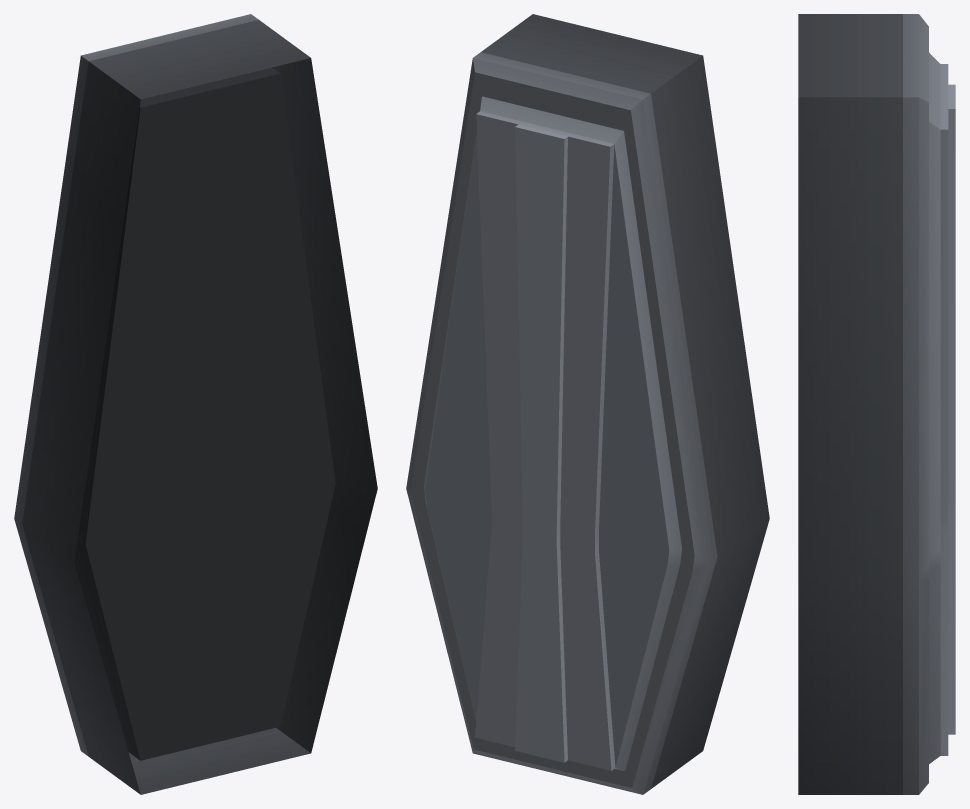
The model's file is Tomb 01.FBX.
3 views of the same model, side by side, from view 1: azimuth 30°, elevation 25°; view 2: azimuth 150°, elevation 25°; view 3: azimuth 270°, elevation 25° (orthographic).
Visible parts, largest first — view 1: Tomb 01, Tomb Cover 01; view 2: Tomb Cover 01, Tomb 01; view 3: Tomb 01, Tomb Cover 01.
Part boxes in pixels (x1,y1,x2,y2): Tomb 01: [22, 20, 377, 794]; Tomb Cover 01: [14, 14, 258, 756]; Tomb Cover 01: [406, 52, 717, 794]; Tomb 01: [481, 14, 769, 788]; Tomb 01: [798, 14, 902, 794]; Tomb Cover 01: [903, 14, 955, 794].
Bounding box in the file's own units: 115 × 251 × 51.23.
